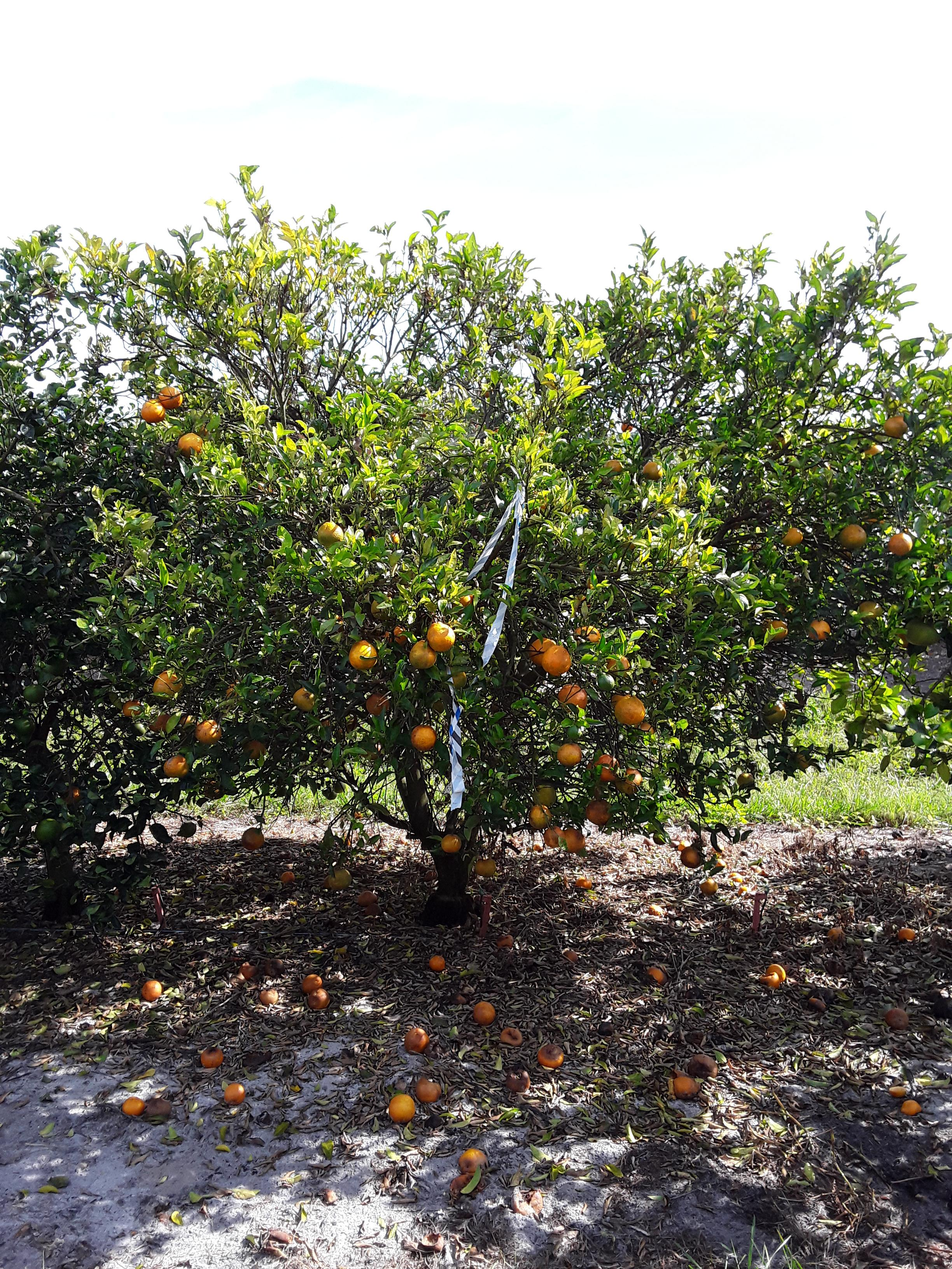fruit_on_ground: (903, 613, 941, 648), (611, 692, 646, 726), (541, 643, 572, 677), (426, 620, 457, 652), (348, 640, 379, 671), (33, 815, 65, 845), (314, 519, 346, 549), (588, 753, 621, 782), (152, 669, 185, 698), (838, 522, 868, 552), (605, 686, 636, 715), (407, 640, 438, 669), (524, 634, 553, 663), (557, 683, 588, 710), (367, 593, 396, 621), (195, 718, 224, 746), (410, 724, 439, 752), (155, 384, 185, 411), (615, 767, 644, 794), (856, 597, 885, 624), (138, 399, 167, 426), (323, 865, 354, 890), (291, 685, 319, 712), (887, 530, 915, 557), (585, 798, 613, 825), (560, 827, 587, 854), (525, 487, 552, 514), (177, 432, 205, 458), (239, 825, 267, 851), (761, 699, 789, 725), (162, 752, 190, 778), (222, 677, 252, 701), (60, 781, 86, 808), (806, 615, 833, 641), (527, 802, 553, 829), (763, 615, 790, 641), (366, 691, 393, 717), (883, 413, 910, 439), (385, 622, 412, 647), (556, 741, 583, 766), (604, 651, 632, 675), (572, 622, 602, 644), (767, 427, 793, 451), (531, 783, 557, 807), (41, 655, 68, 678), (200, 776, 225, 800), (780, 524, 805, 548), (439, 832, 465, 855), (859, 439, 885, 462), (679, 846, 705, 869), (860, 509, 888, 530), (358, 740, 383, 763), (146, 710, 171, 733), (640, 458, 665, 481), (242, 738, 268, 760), (21, 682, 47, 704), (11, 714, 36, 736), (473, 855, 498, 877), (119, 696, 144, 718), (543, 825, 565, 849), (791, 750, 814, 772), (455, 589, 478, 610), (601, 456, 624, 477), (383, 527, 405, 548), (595, 672, 616, 694), (744, 721, 766, 741), (128, 718, 149, 738), (316, 713, 337, 733), (177, 819, 198, 838), (735, 770, 756, 789), (563, 724, 583, 743), (635, 719, 656, 737), (452, 669, 469, 689), (429, 697, 448, 713), (32, 367, 48, 384), (178, 713, 195, 729), (619, 418, 635, 434), (652, 831, 668, 846)
fruit_on_tree: (685, 1051, 720, 1080), (457, 1147, 490, 1176), (535, 1040, 566, 1070), (387, 1092, 416, 1124), (668, 1073, 700, 1099), (414, 1076, 443, 1104), (470, 998, 498, 1027), (883, 1004, 911, 1031), (403, 1025, 430, 1053), (496, 1024, 523, 1050), (199, 1043, 225, 1069), (504, 1069, 532, 1093), (146, 1096, 173, 1120), (897, 1097, 925, 1120), (222, 1082, 247, 1107), (643, 963, 669, 987), (306, 988, 332, 1012), (120, 1094, 145, 1118), (140, 977, 164, 1002), (419, 1231, 446, 1253), (448, 1173, 474, 1195), (262, 957, 286, 979), (824, 924, 848, 945), (300, 972, 324, 993), (698, 875, 720, 897), (238, 960, 260, 982), (805, 994, 829, 1014), (494, 931, 516, 952), (765, 963, 786, 984), (886, 1080, 909, 1099), (427, 953, 448, 973), (357, 888, 380, 906), (597, 1018, 618, 1037), (259, 987, 280, 1006), (561, 946, 580, 965), (573, 874, 593, 891), (896, 925, 916, 942), (360, 902, 382, 917), (734, 882, 753, 899), (646, 901, 665, 918), (279, 868, 296, 885), (320, 1187, 336, 1205), (709, 859, 727, 873), (729, 871, 745, 885), (530, 839, 545, 853), (639, 835, 654, 848), (676, 840, 691, 853)
